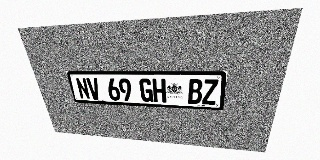6: (106, 78, 121, 101)
9: (118, 78, 133, 101)
B: (188, 79, 203, 104)
G: (139, 78, 153, 102)
H: (152, 79, 166, 103)
N: (75, 78, 91, 99)
V: (86, 78, 101, 100)
Z: (202, 79, 219, 105)
